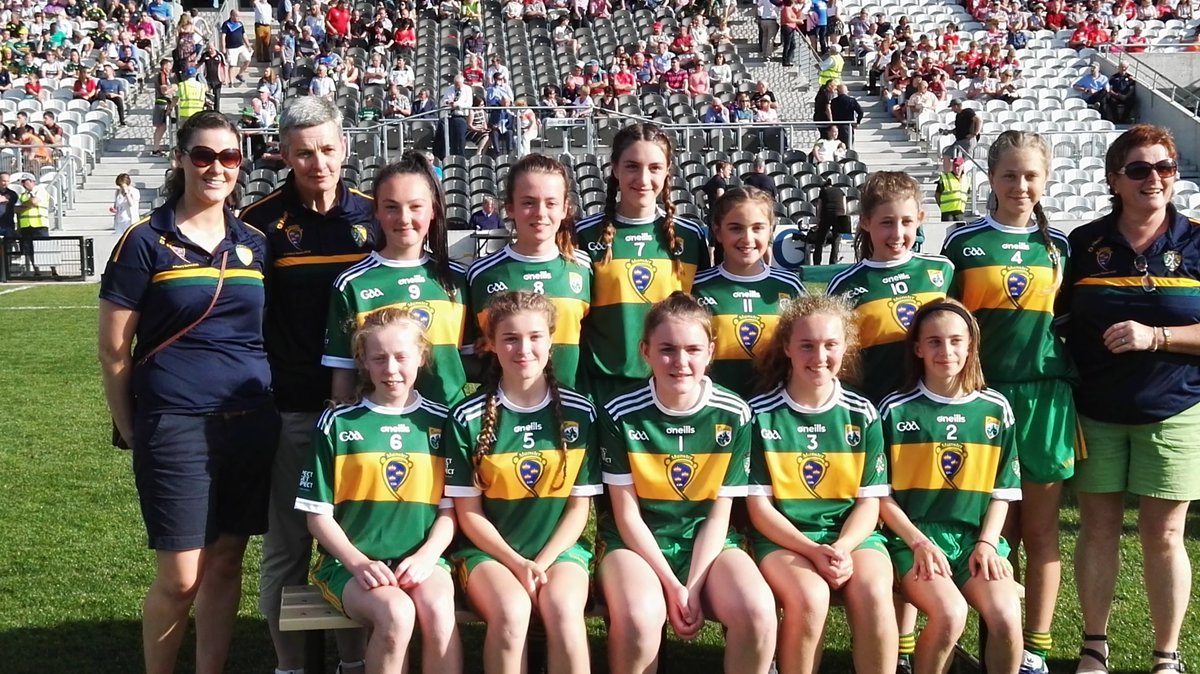player: (101, 107, 277, 618), (256, 96, 381, 548), (960, 131, 1073, 624), (315, 310, 469, 660), (625, 287, 765, 652), (893, 300, 1031, 662), (473, 299, 605, 662), (1084, 130, 1189, 575), (775, 293, 885, 648), (473, 145, 605, 371), (343, 158, 473, 365), (827, 170, 962, 367), (582, 128, 696, 345), (680, 177, 804, 344)
